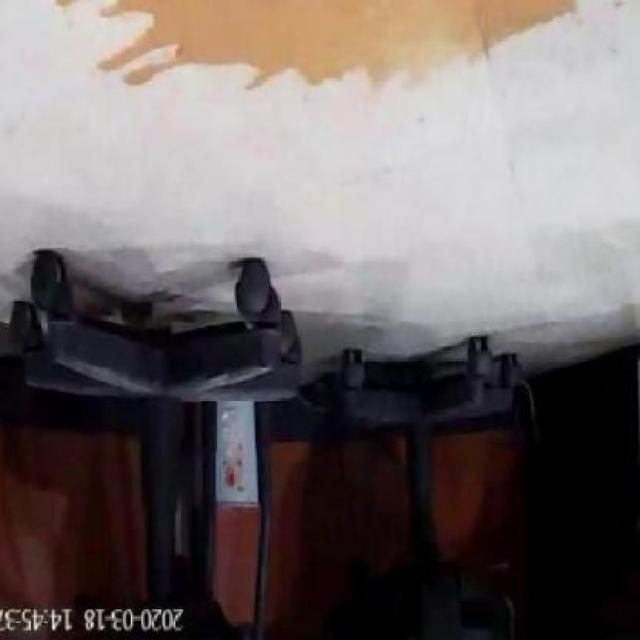spillage: (117, 0, 578, 82)
